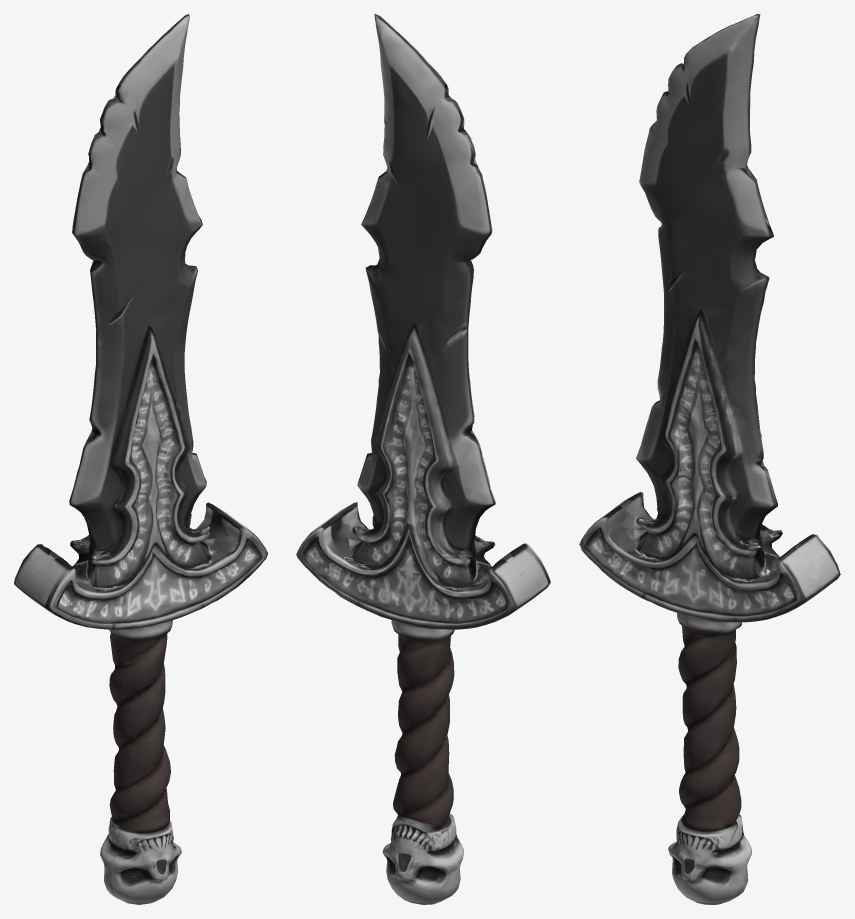
Rendered from Meshy_AI_Dark_Rune_Blade_1222093432_texture.fbx.
The picture shows the model from 3 angles, left to right: view 1: azimuth 30°, elevation 25°; view 2: azimuth 150°, elevation 25°; view 3: azimuth 330°, elevation 25°; orthographic projection. The views are drawn at different scales.
Parts seen in each view (by area): view 1: Mesh_0; view 2: Mesh_0; view 3: Mesh_0.
Part boxes in pixels (bbox=[...]): Mesh_0: bbox=[14, 14, 267, 904]; Mesh_0: bbox=[296, 14, 550, 904]; Mesh_0: bbox=[579, 14, 840, 904].
Size of the model in its own units: 50.91 by 191 by 17.53.
Materials: 1 (1 with a texture image).
